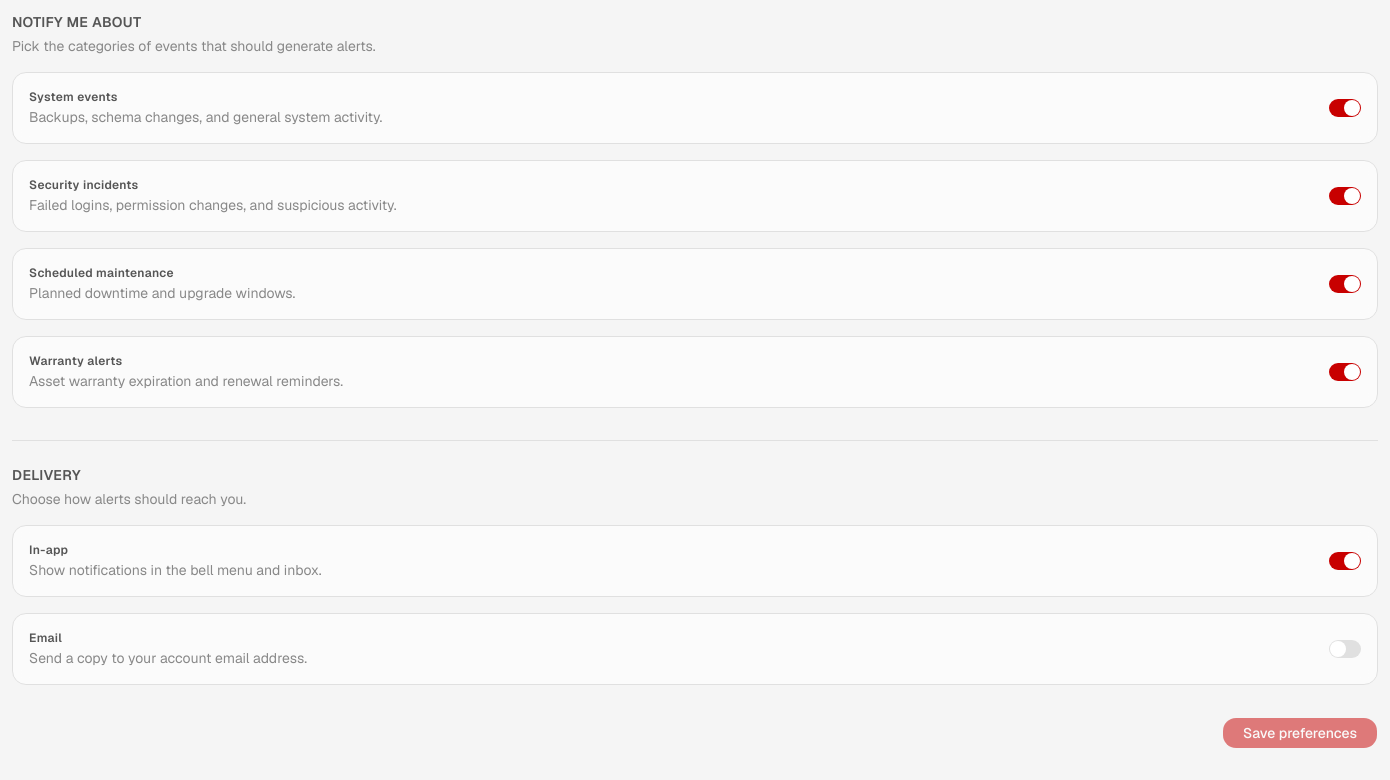
Test: PreferencesForm › shows a success toast on submit and resets dirty state
This screenshot has width=1390, height=780.
Click the switch in the row of "System events": (1345,108) [1329,99,1361,117]
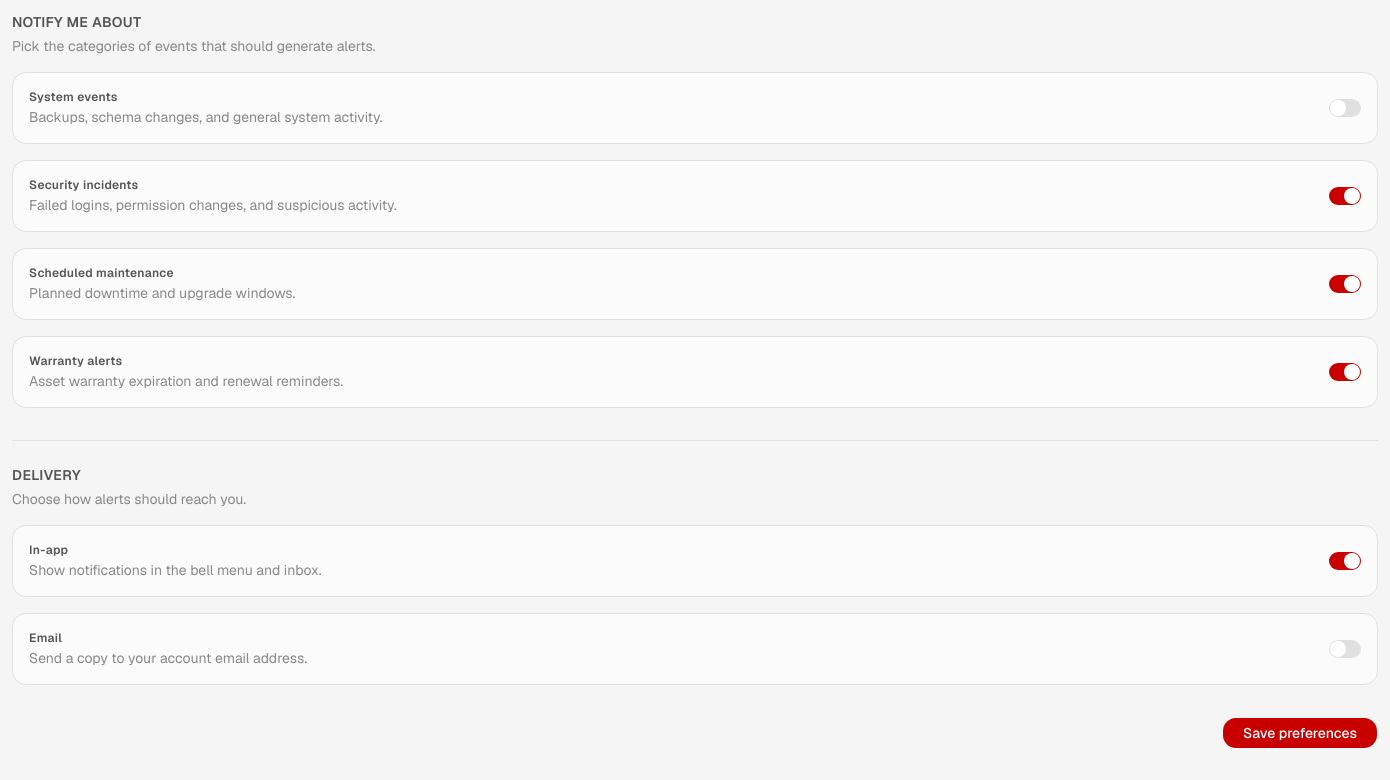
Submit the form with test id "preferences-form"
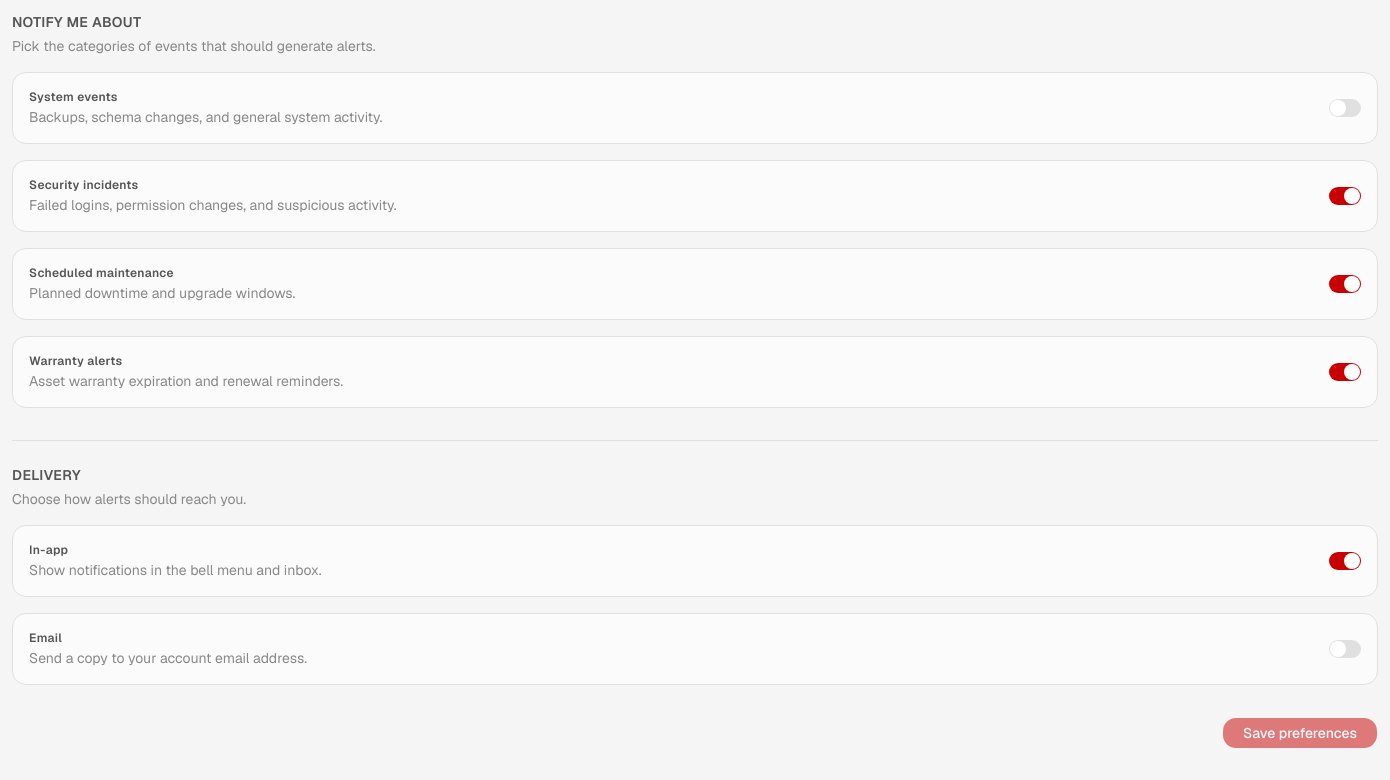
expect the button "Save preferences" is disabled: met, box [1222,717,1378,749]
